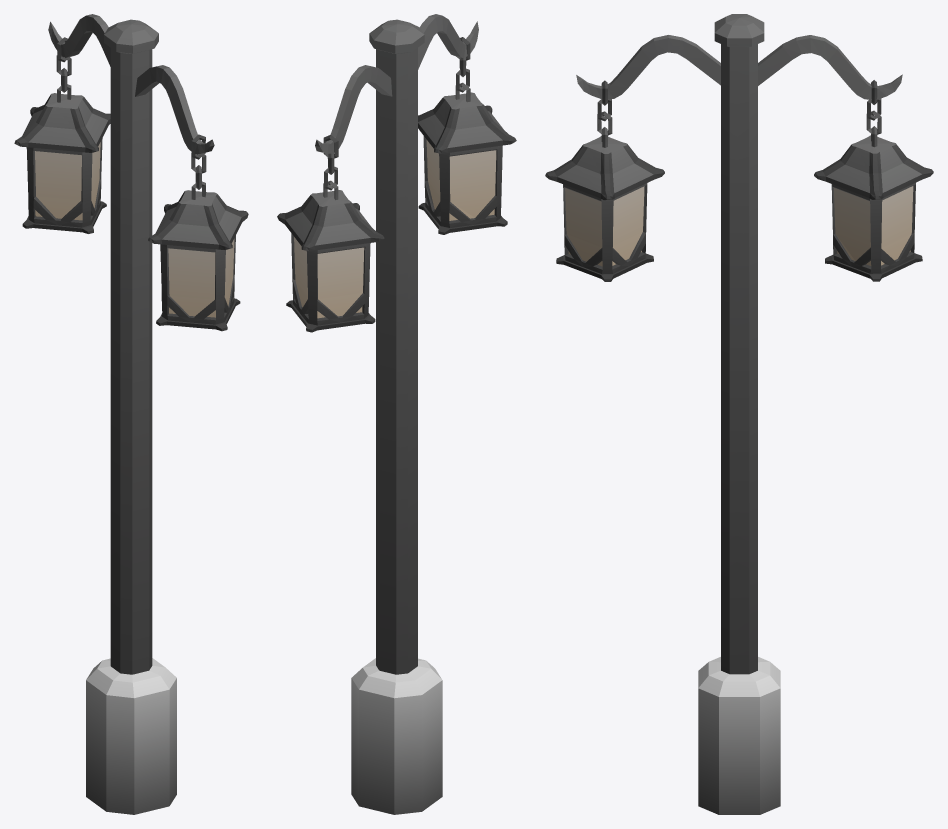
Rendered from lantern_metaldouble.glb.
3 views of the same model, side by side, from view 1: azimuth 30°, elevation 25°; view 2: azimuth 150°, elevation 25°; view 3: azimuth 270°, elevation 25° (orthographic).
Visible parts, largest first — view 1: Lantern_MetalDouble_mesh1; view 2: Lantern_MetalDouble_mesh1; view 3: Lantern_MetalDouble_mesh1.
Part boxes in pixels (<box>): Lantern_MetalDouble_mesh1: <box>14,14,248,814</box>; Lantern_MetalDouble_mesh1: <box>277,14,516,814</box>; Lantern_MetalDouble_mesh1: <box>545,14,933,814</box>.
Size of the model in its own units: 0.6445 by 4.6 by 2.08.
1 material, 1 textured.
